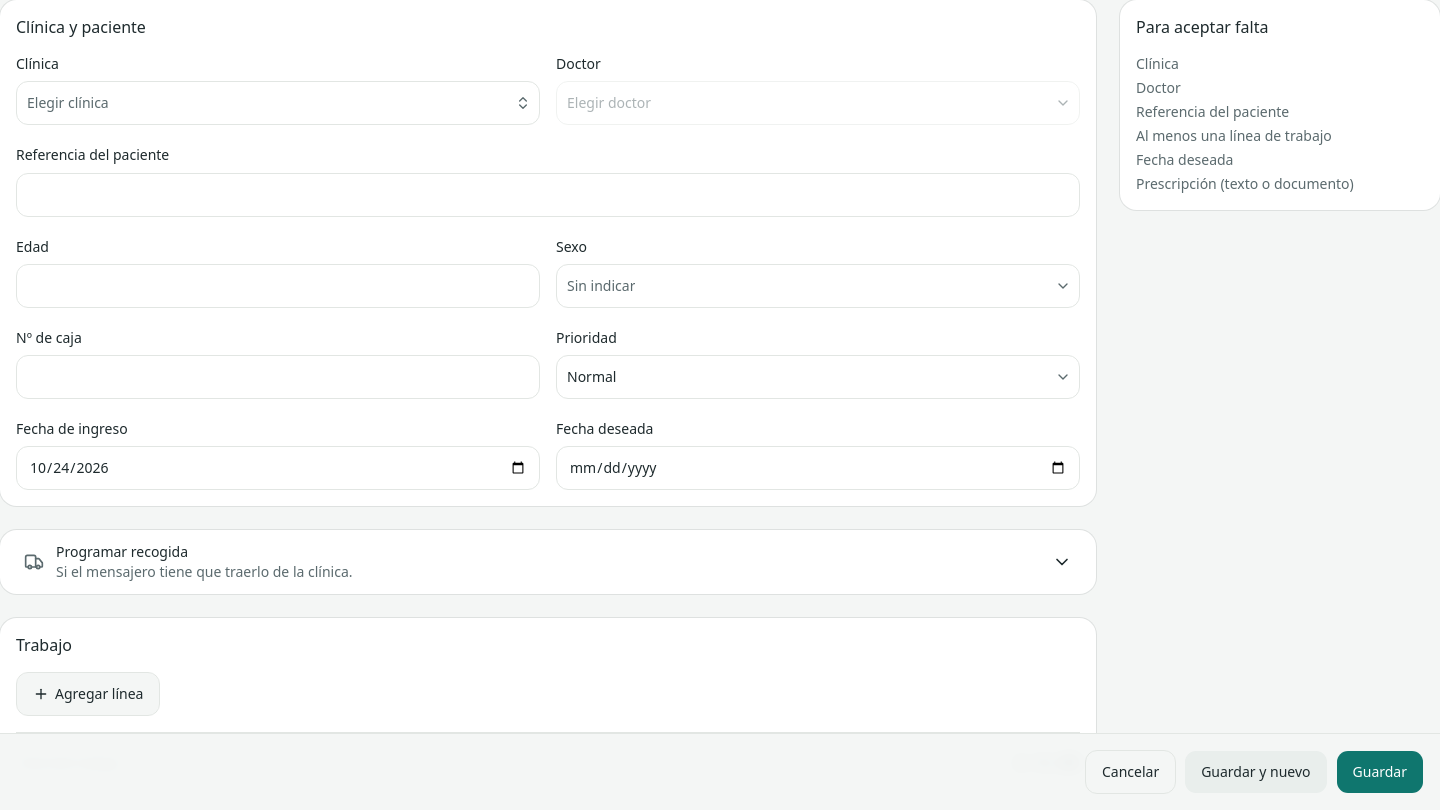
Scenario: CaseForm › cambiar de clínica reinicia el doctor elegido
Click the dropdown labelled "clínica" at (68,103), box [16,81,540,125]
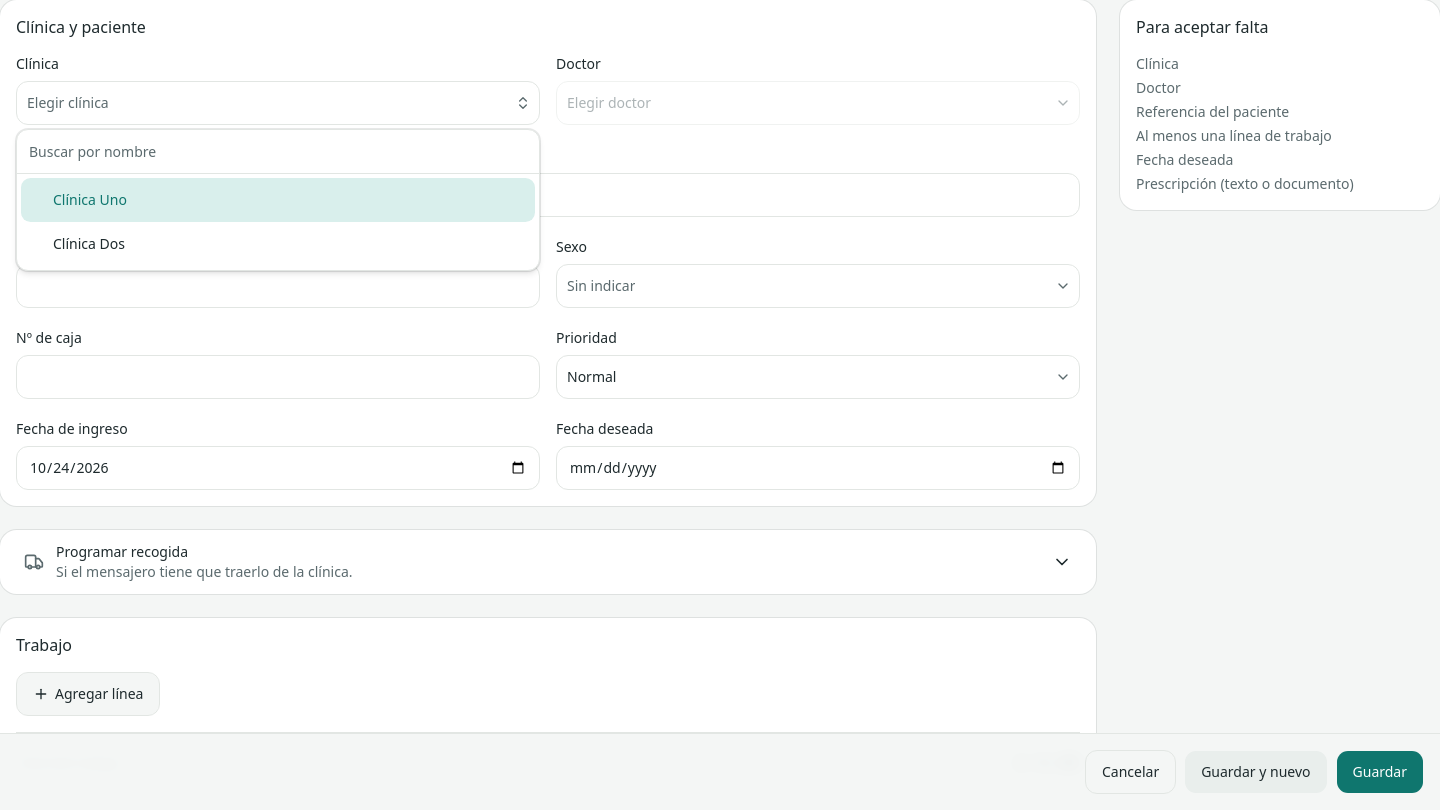
Click the option "Clínica Uno" at (90,200), box [21,178,535,222]
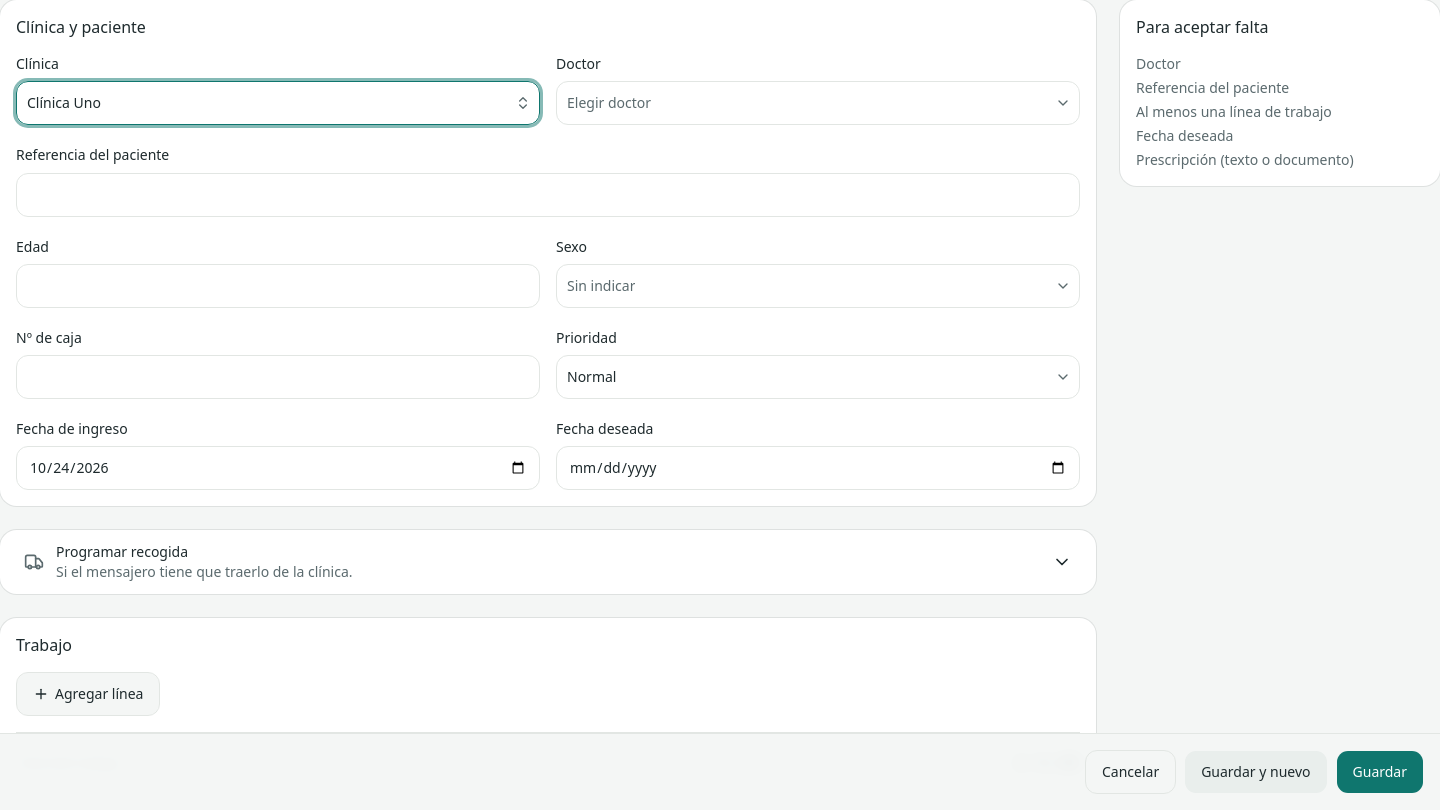
Click the dropdown labelled "doctor" at (609,103), box [556,81,1080,125]
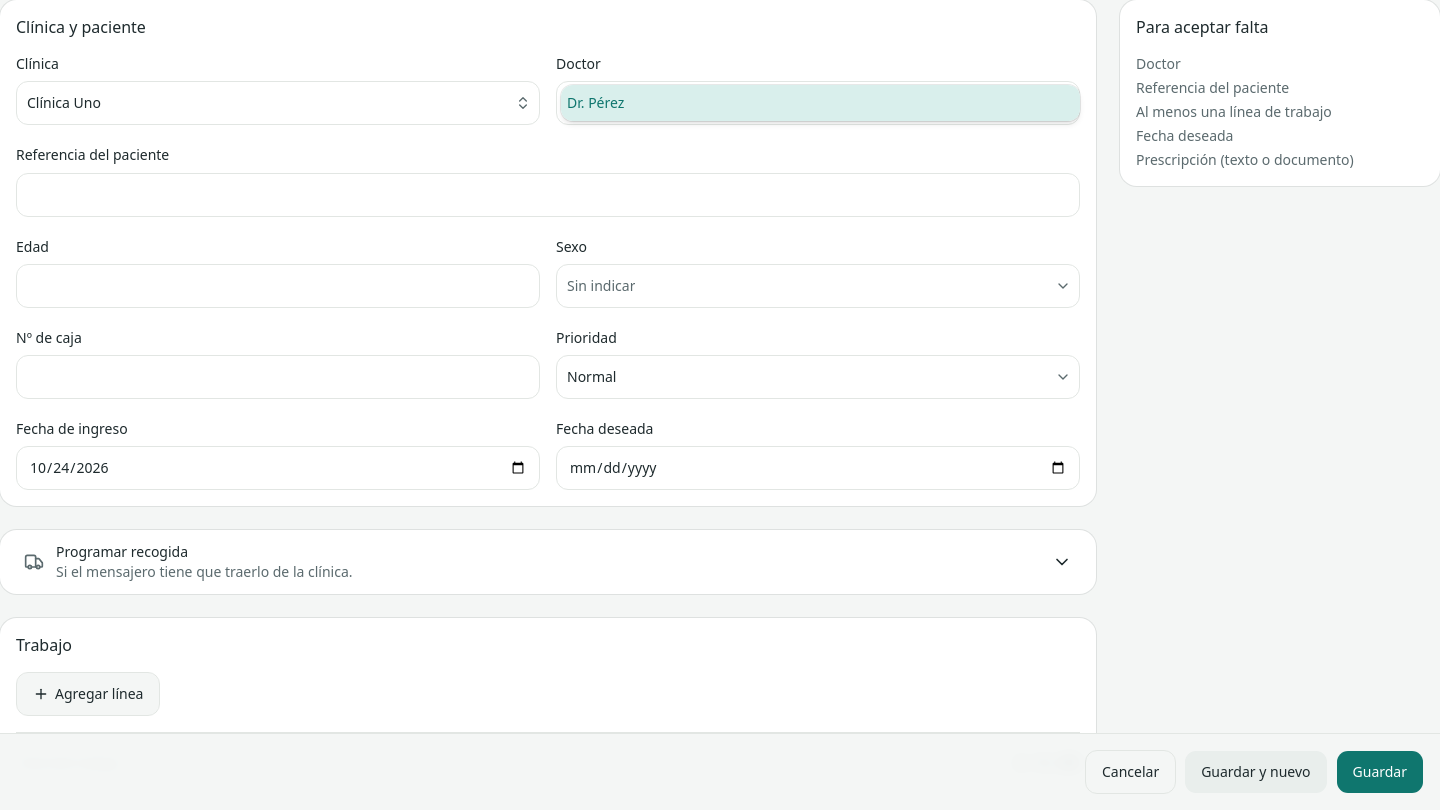
Click the option "Dr. Pérez" at (596,103), box [561,85,1080,121]
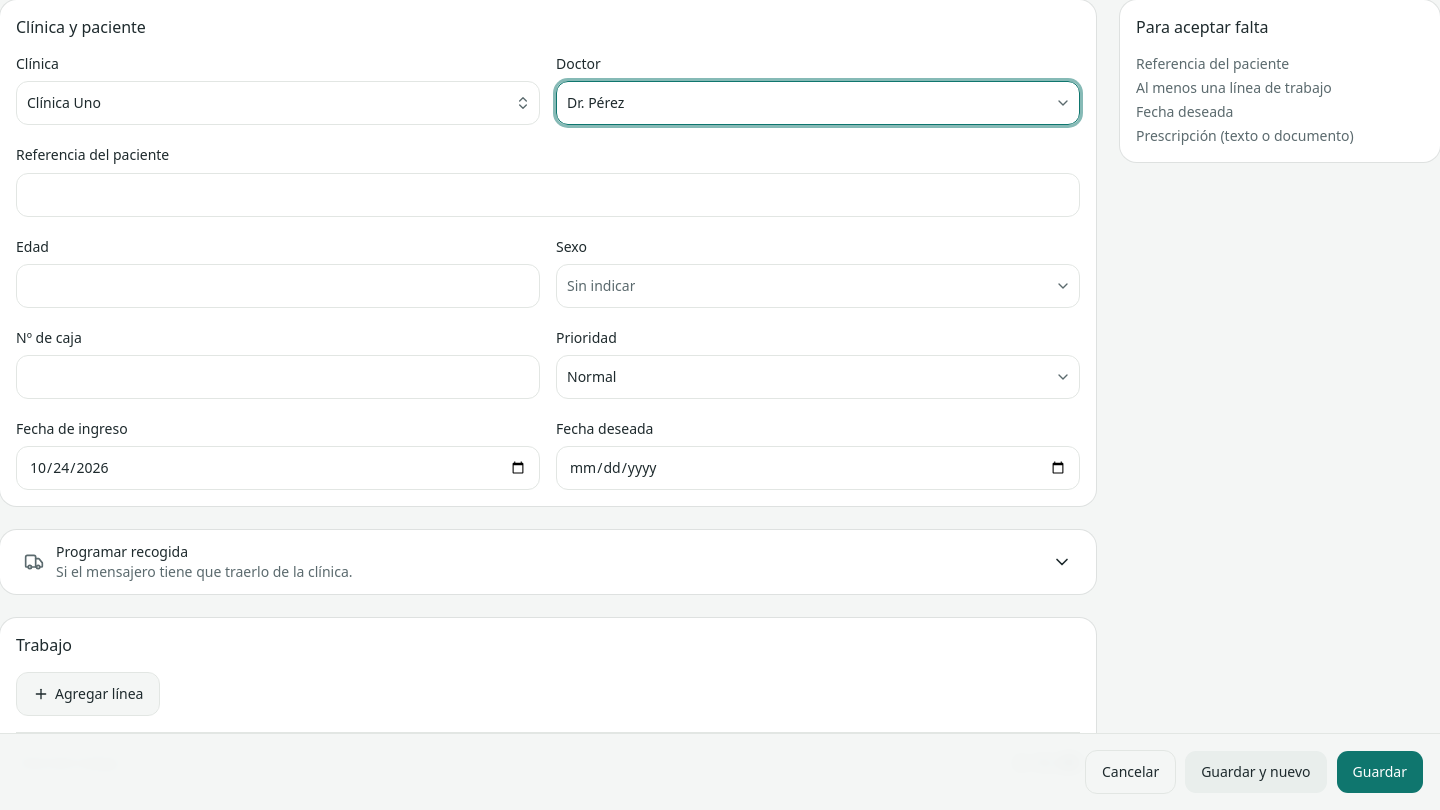
expect the dropdown named "Doctor" reads "Dr. Pérez": met, box [556,81,1080,125]
Click the dropdown labelled "Clínica" at (64,103), box [16,81,540,125]
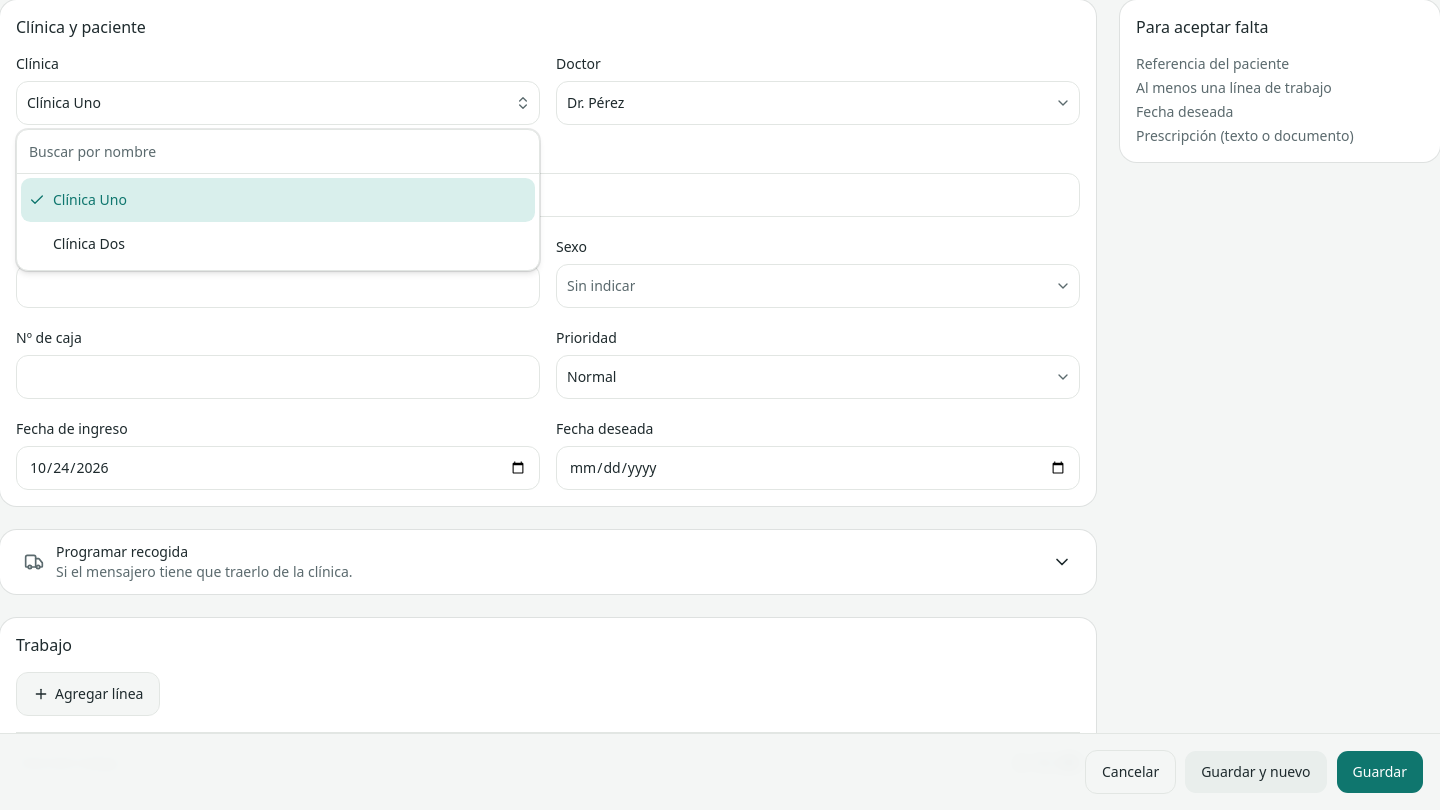
Click the option "Clínica Dos" at (89,244), box [53,234,125,253]
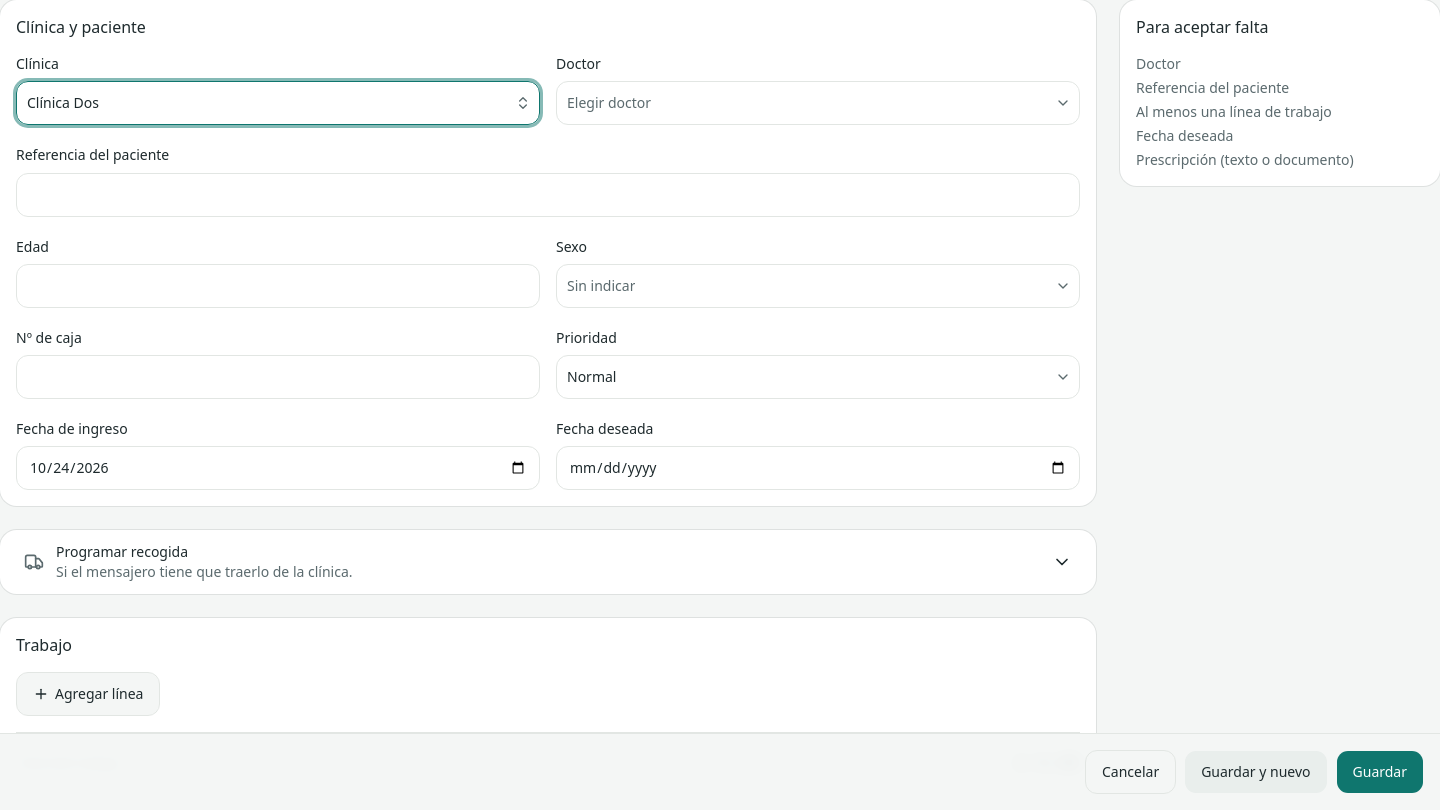
expect the dropdown labelled "doctor" reads "Elegir doctor": met, box [556,81,1080,125]
